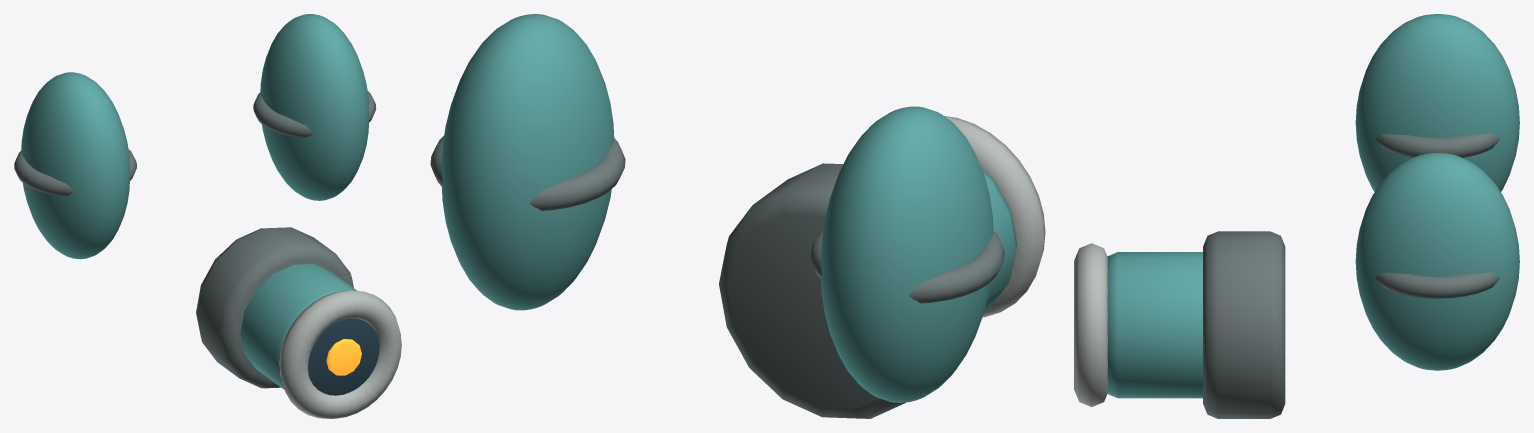
The model's file is enemy-spitter-kit.glb.
3 renders of one model, left to right at view 1: azimuth 30°, elevation 25°; view 2: azimuth 150°, elevation 25°; view 3: azimuth 270°, elevation 25°, orthographic. The views are drawn at different scales.
Parts seen in each view (by area): view 1: enemy-spitter-kit_Sea green, enemy-spitter-kit_Gunmetal, enemy-spitter-kit_Brushed steel, enemy-spitter-kit_Midnight blue, enemy-spitter-kit_Enemy amber optics; view 2: enemy-spitter-kit_Sea green, enemy-spitter-kit_Gunmetal, enemy-spitter-kit_Brushed steel; view 3: enemy-spitter-kit_Sea green, enemy-spitter-kit_Gunmetal, enemy-spitter-kit_Brushed steel.
Part boxes in pixels (x1,y1,x2,y2): enemy-spitter-kit_Sea green: (21,14,368,389); enemy-spitter-kit_Gunmetal: (14,91,376,388); enemy-spitter-kit_Brushed steel: (279,290,401,418); enemy-spitter-kit_Midnight blue: (308,318,379,395); enemy-spitter-kit_Enemy amber optics: (326,339,361,375); enemy-spitter-kit_Sea green: (441,14,1017,402); enemy-spitter-kit_Gunmetal: (430,135,1004,418); enemy-spitter-kit_Brushed steel: (944,116,1045,317); enemy-spitter-kit_Sea green: (1107,14,1519,398); enemy-spitter-kit_Gunmetal: (1203,133,1500,418); enemy-spitter-kit_Brushed steel: (1074,243,1107,407).
Size of the model in its own units: 0.81 by 0.61 by 0.76.
